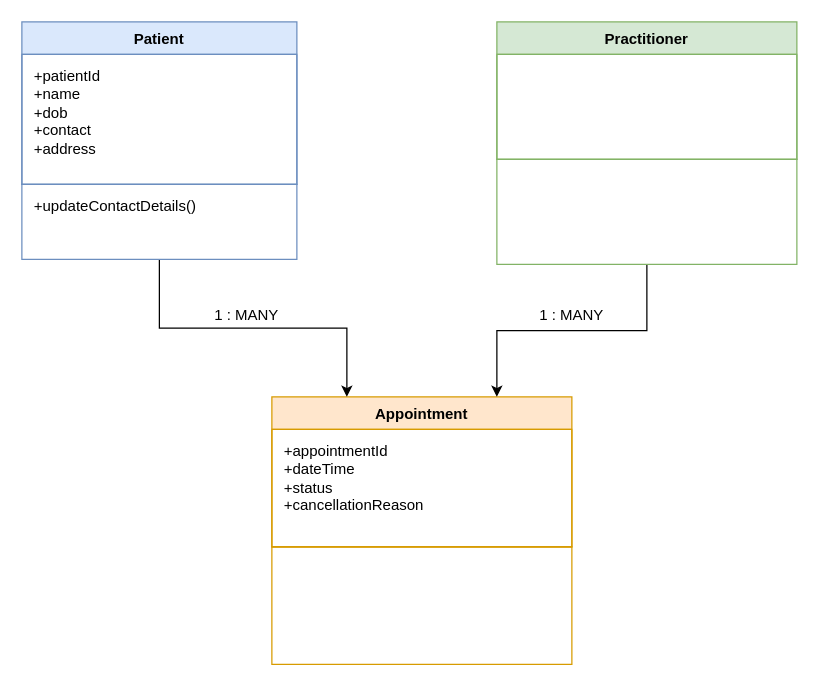
This 819x686 diagram has some shape labels left out. Each missing label, with the box of its shape:
+checkConflict() +cancel(reason) +updateStatus(newStatus): (271, 546, 572, 664)
+getAvailability() +getDailyAppointments(): (496, 158, 797, 264)
+practitionerId +name +specialty +workingHours: (496, 53, 797, 159)
